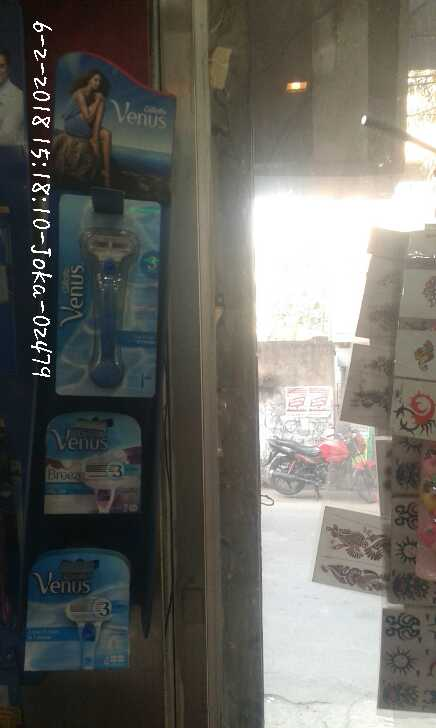venus: (53, 197, 163, 401), (13, 546, 137, 675), (40, 410, 153, 519)
